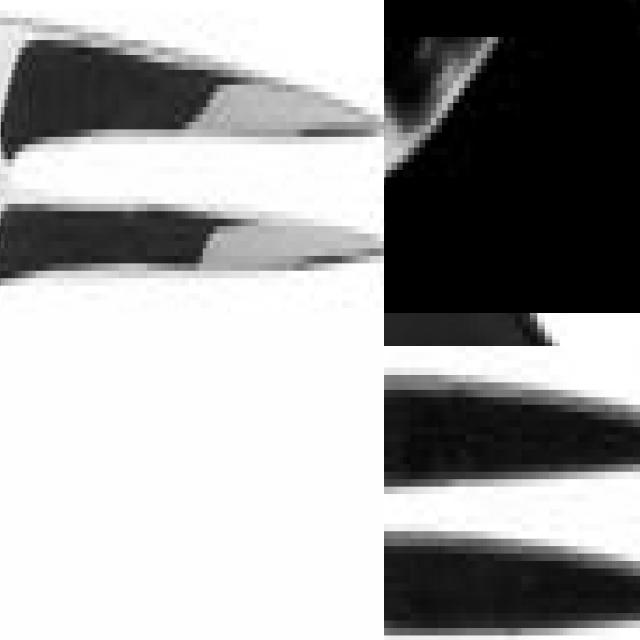forks: (0, 0, 384, 313), (384, 366, 640, 640), (440, 0, 640, 309)
